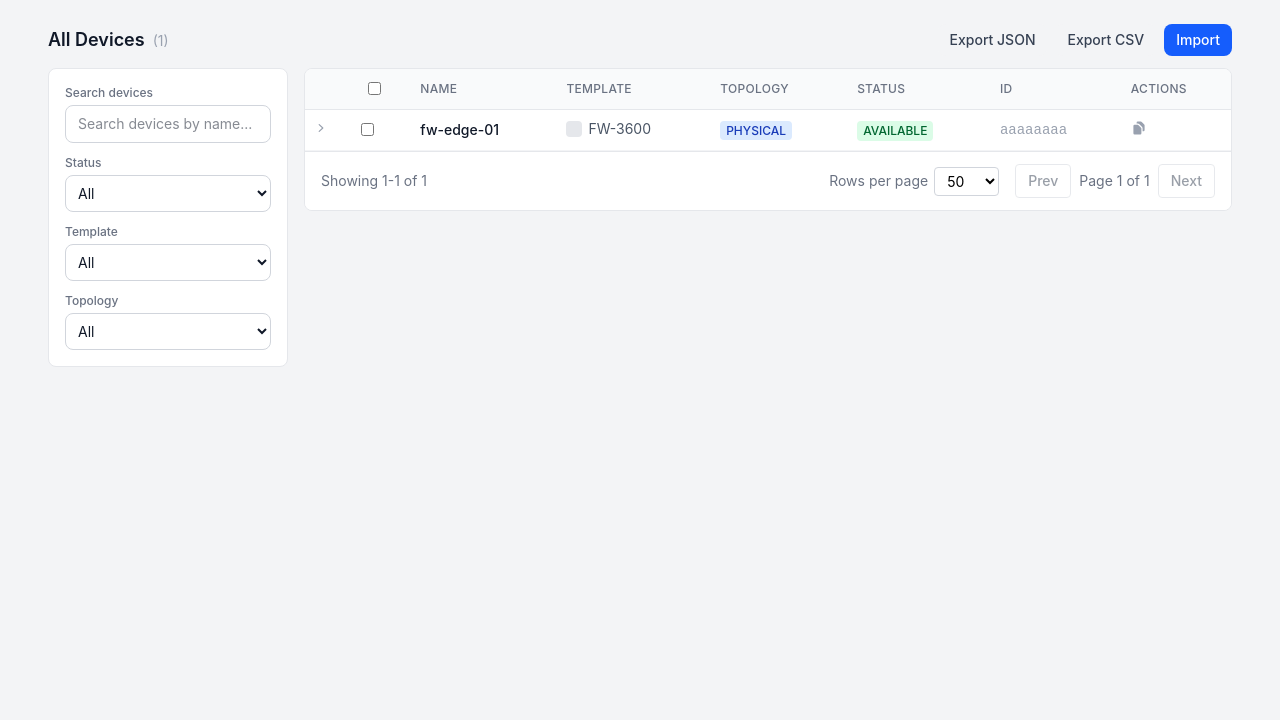
Test case: InventoryPage › expanded ports row › shows an unconnected port as Not connected
The width and height of the screenshot is (1280, 720).
Expected: the text "fw-edge-01" is shown, [404,110,550,150]
Click the button named "Expand ports" at (321, 128), box [313,120,329,136]
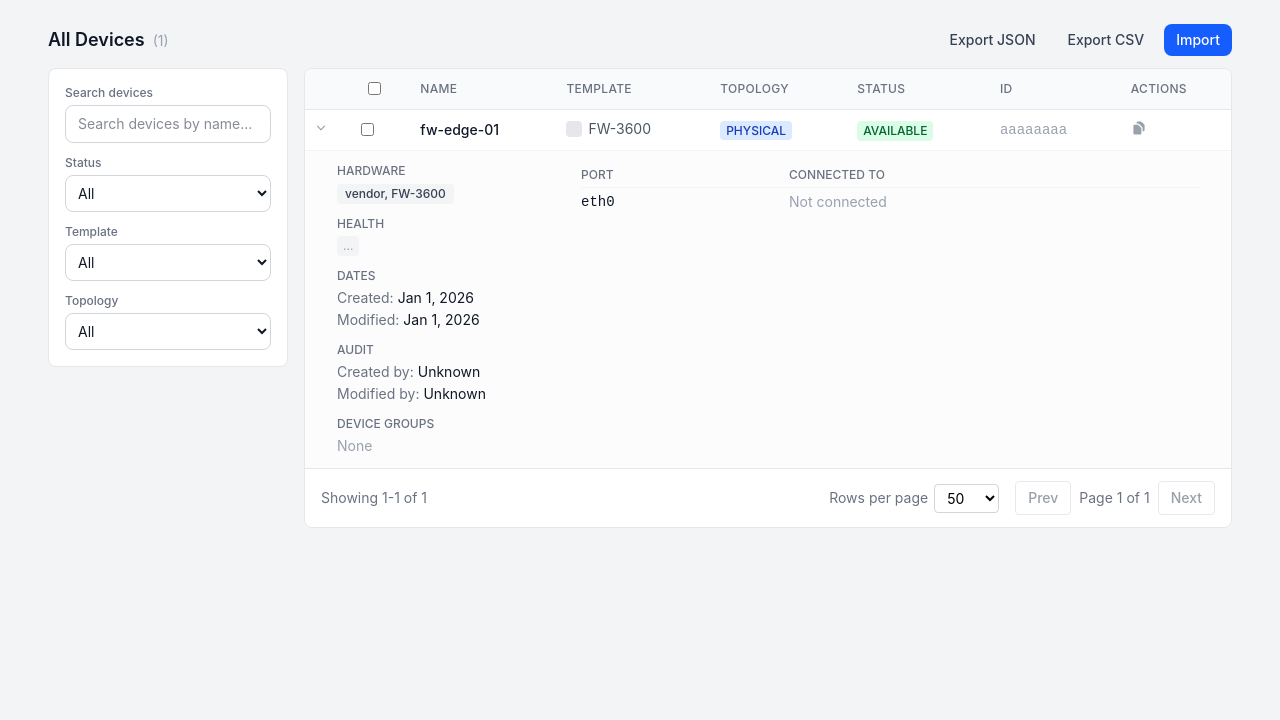
Expected: the text "eth0" is shown, [581,188,789,216]
Expected: the text "Not connected" is shown, [789,193,887,210]
